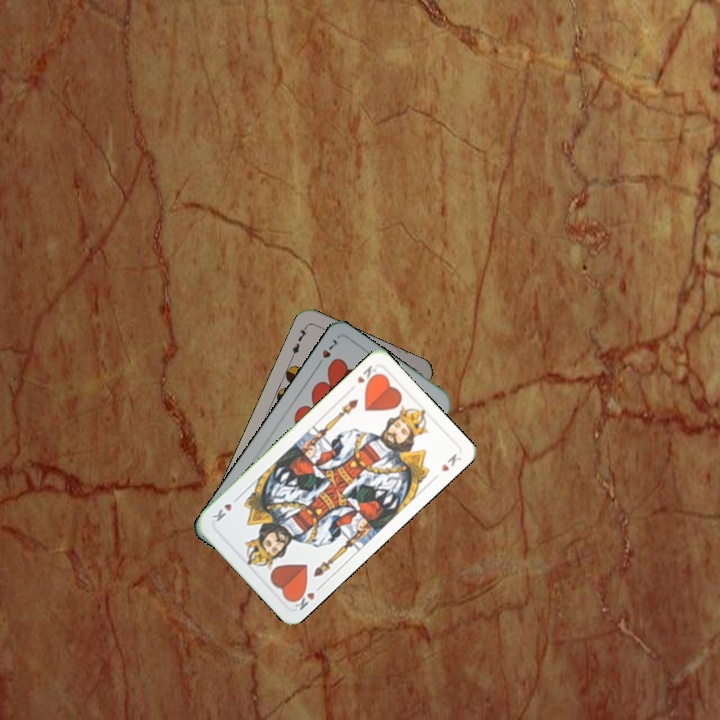E7: (287, 322, 310, 360)
H7: (312, 335, 340, 370)
HK: (288, 581, 325, 613), (353, 361, 382, 389)
